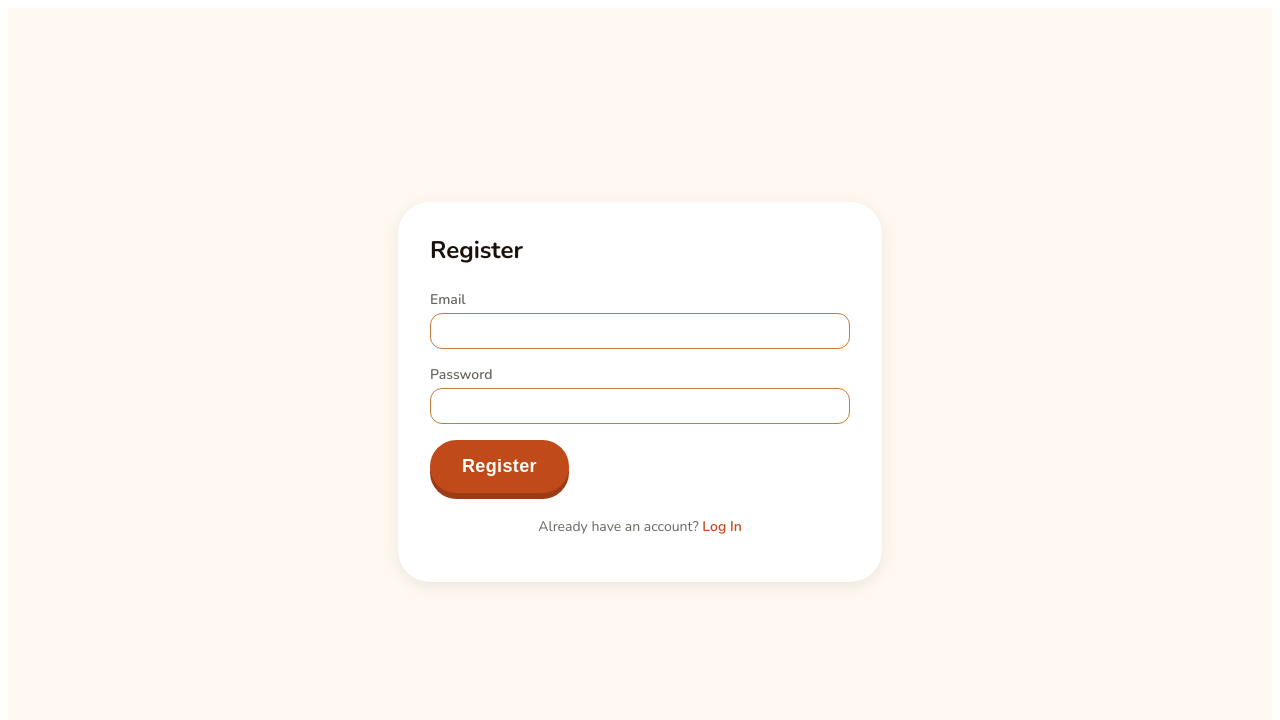
Test: RegisterPage › shows error message on failed registration
Type "a@b.com" into the field labelled "Email" at {"x": 640, "y": 331}, box [430, 313, 850, 349]
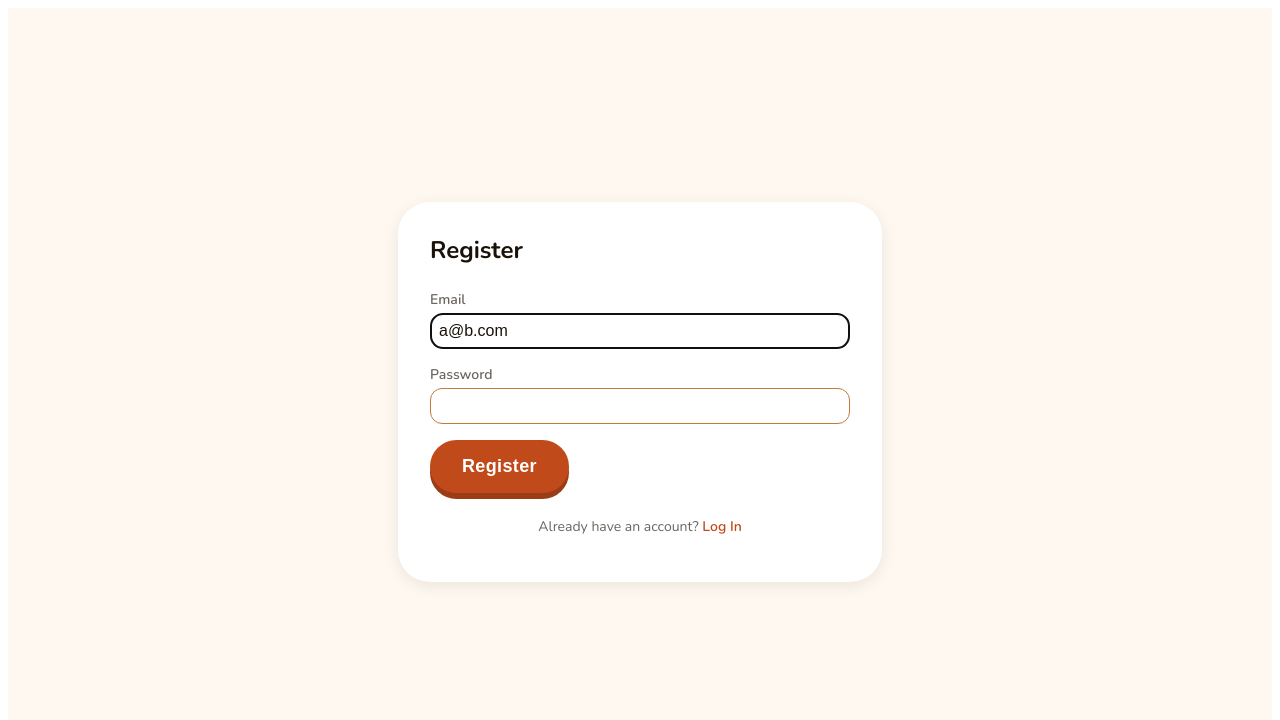
Type "pass" into the password field labelled "Password" at {"x": 640, "y": 406}, box [430, 388, 850, 424]
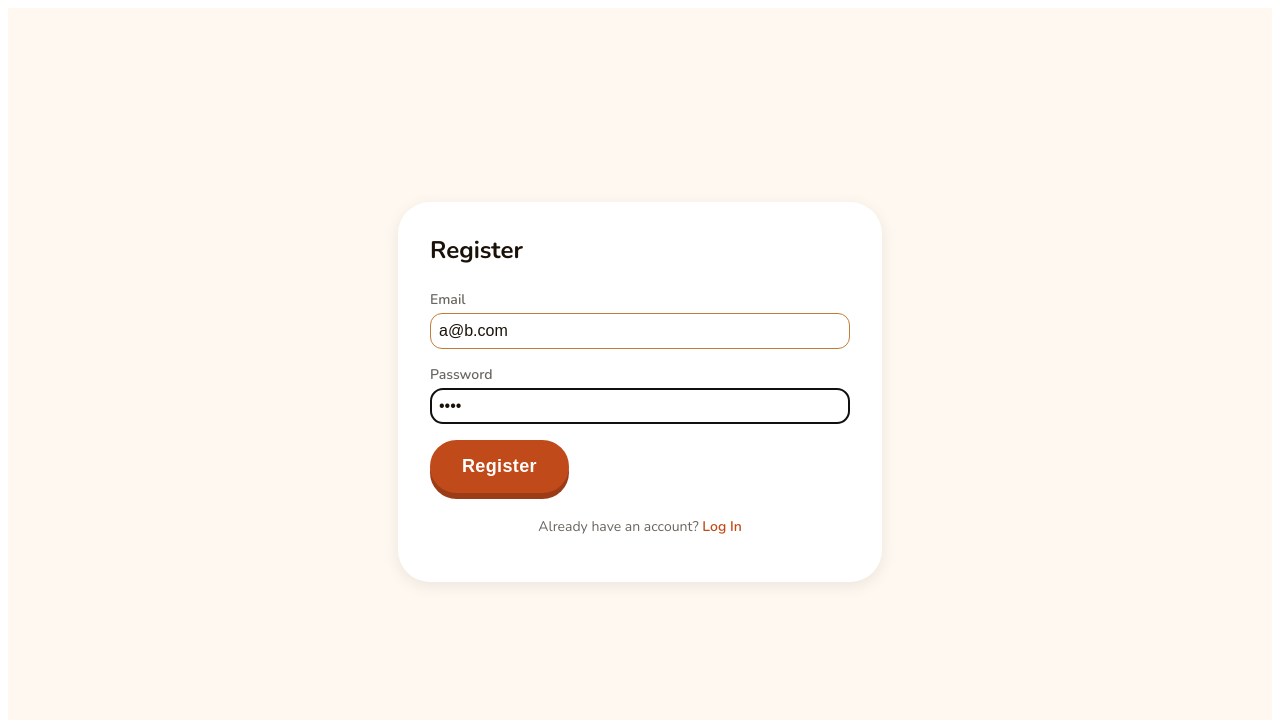
Click the button "Register" at {"x": 499, "y": 466}, box [430, 440, 569, 493]
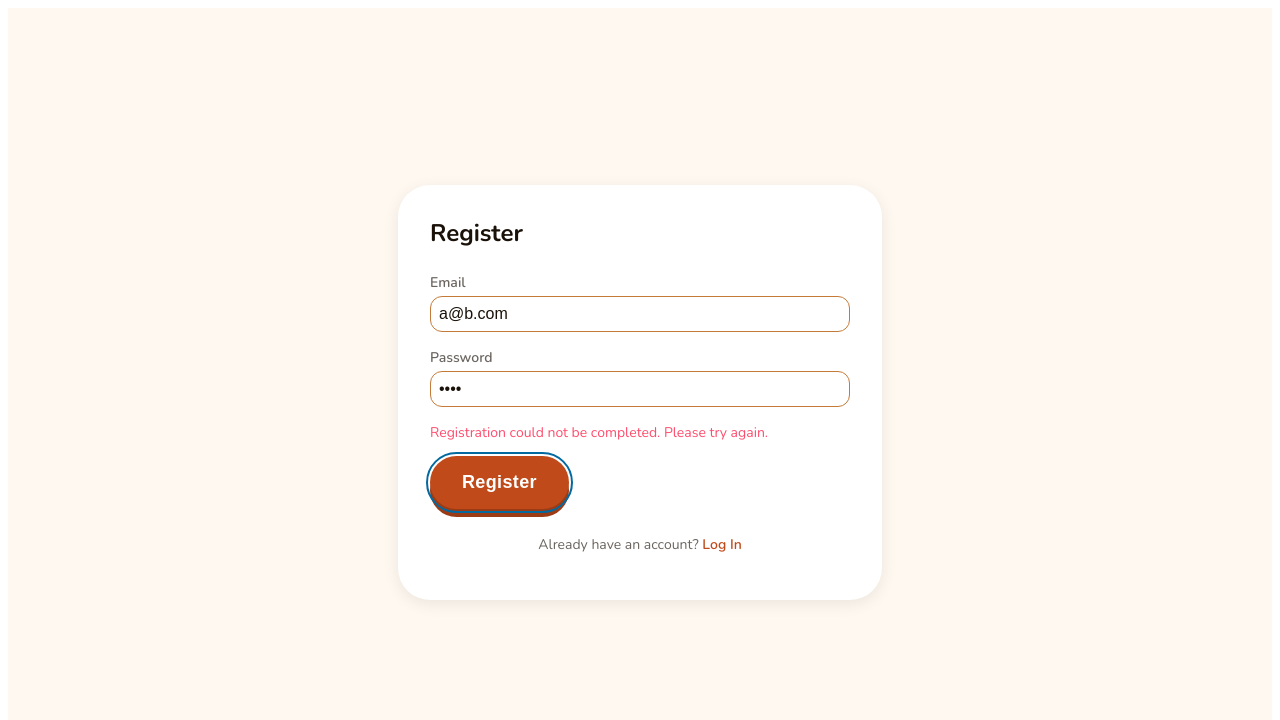
expect the message "Registration could not be completed. Please try again." is shown: met, box [430, 422, 768, 442]
